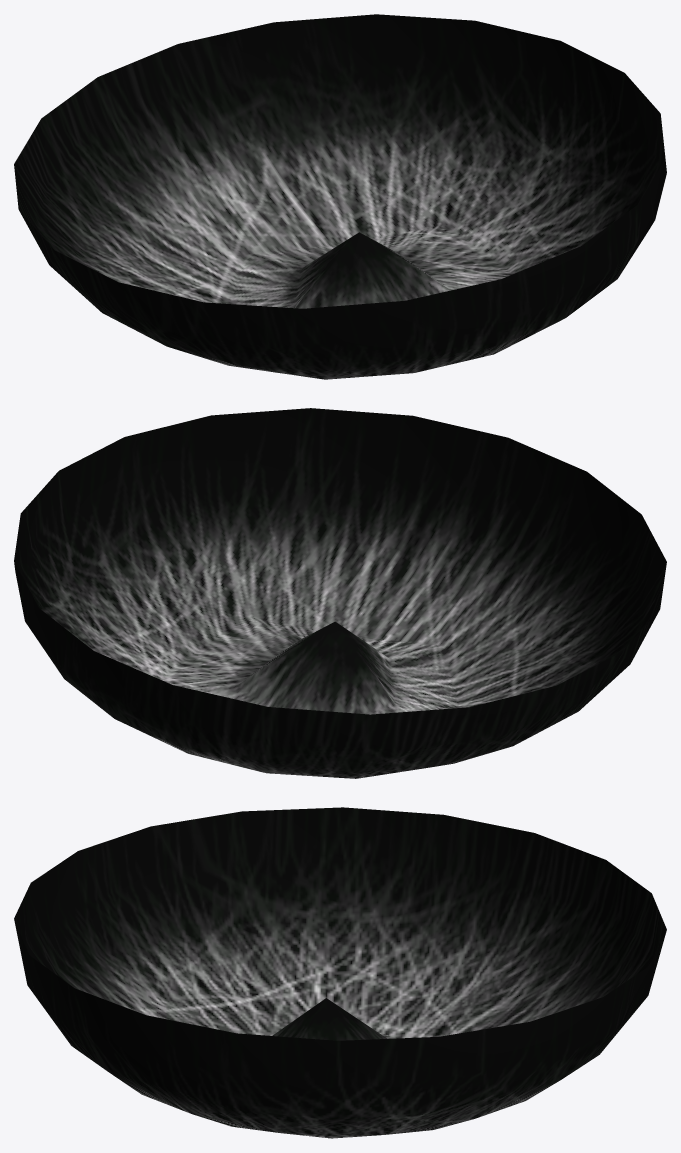
File: MIRKWOOD_SB_996.fbx
3 views of the same model, one above another, from view 1: azimuth 30°, elevation 25°; view 2: azimuth 150°, elevation 25°; view 3: azimuth 270°, elevation 25° (orthographic).
Visible parts, largest first — view 1: MIRKWOOD_SB_996; view 2: MIRKWOOD_SB_996; view 3: MIRKWOOD_SB_996.
Part boxes in pixels (x1=…): MIRKWOOD_SB_996: x1=14, y1=14, x2=666, y2=379; MIRKWOOD_SB_996: x1=14, y1=408, x2=666, y2=778; MIRKWOOD_SB_996: x1=14, y1=807, x2=666, y2=1138.
Bounding box in the file's own units: 178495 × 53417 × 179783.
1 material, 1 textured.
